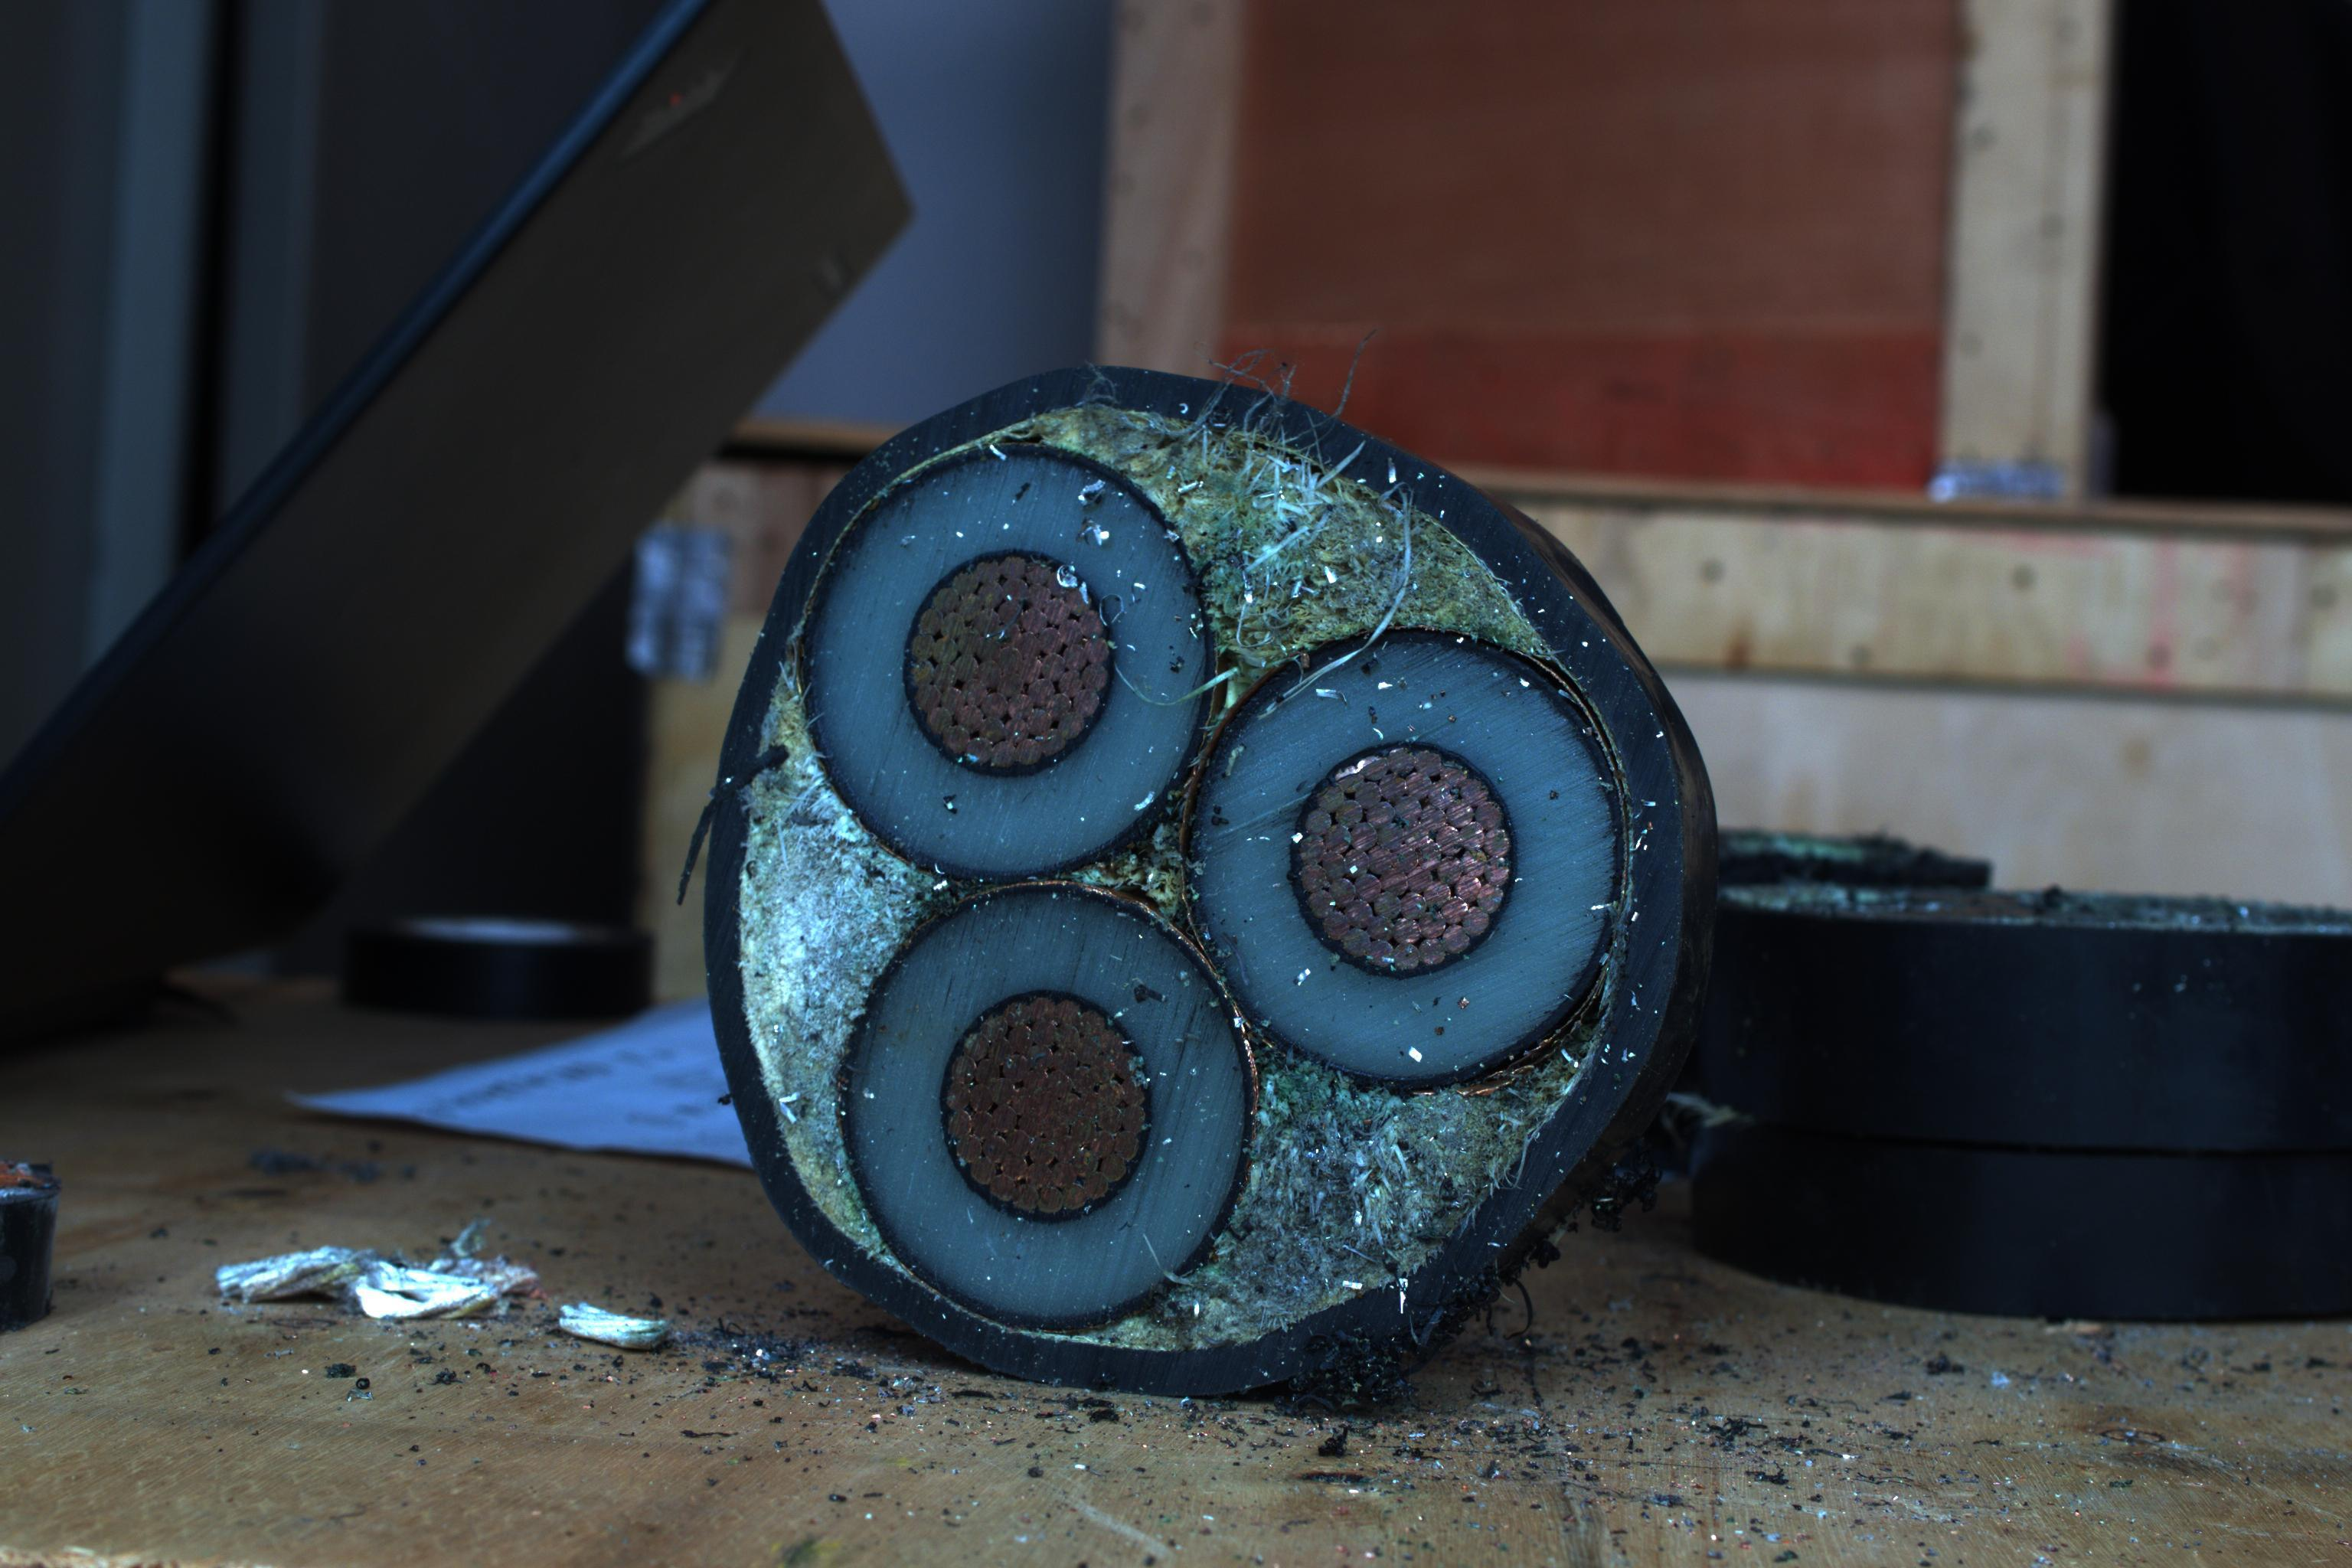ZA_YJV_26_35kV_3x400: (660, 395, 1673, 1374)
